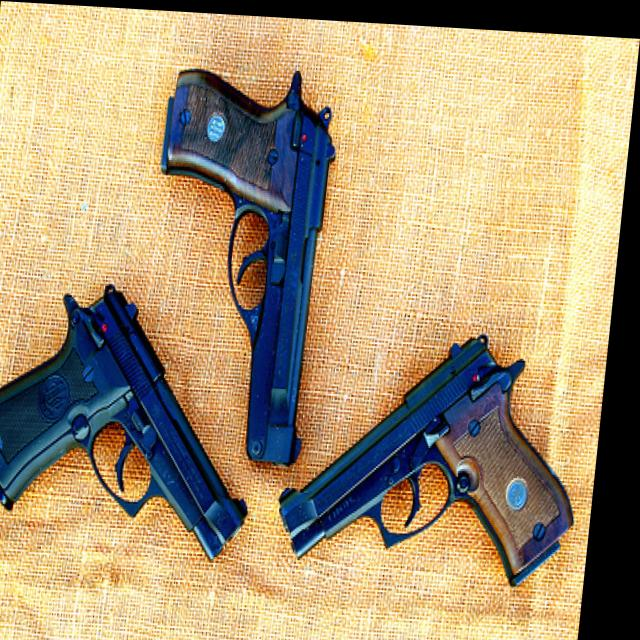handgun: (277, 311, 599, 602), (133, 62, 343, 464), (0, 270, 272, 561)
